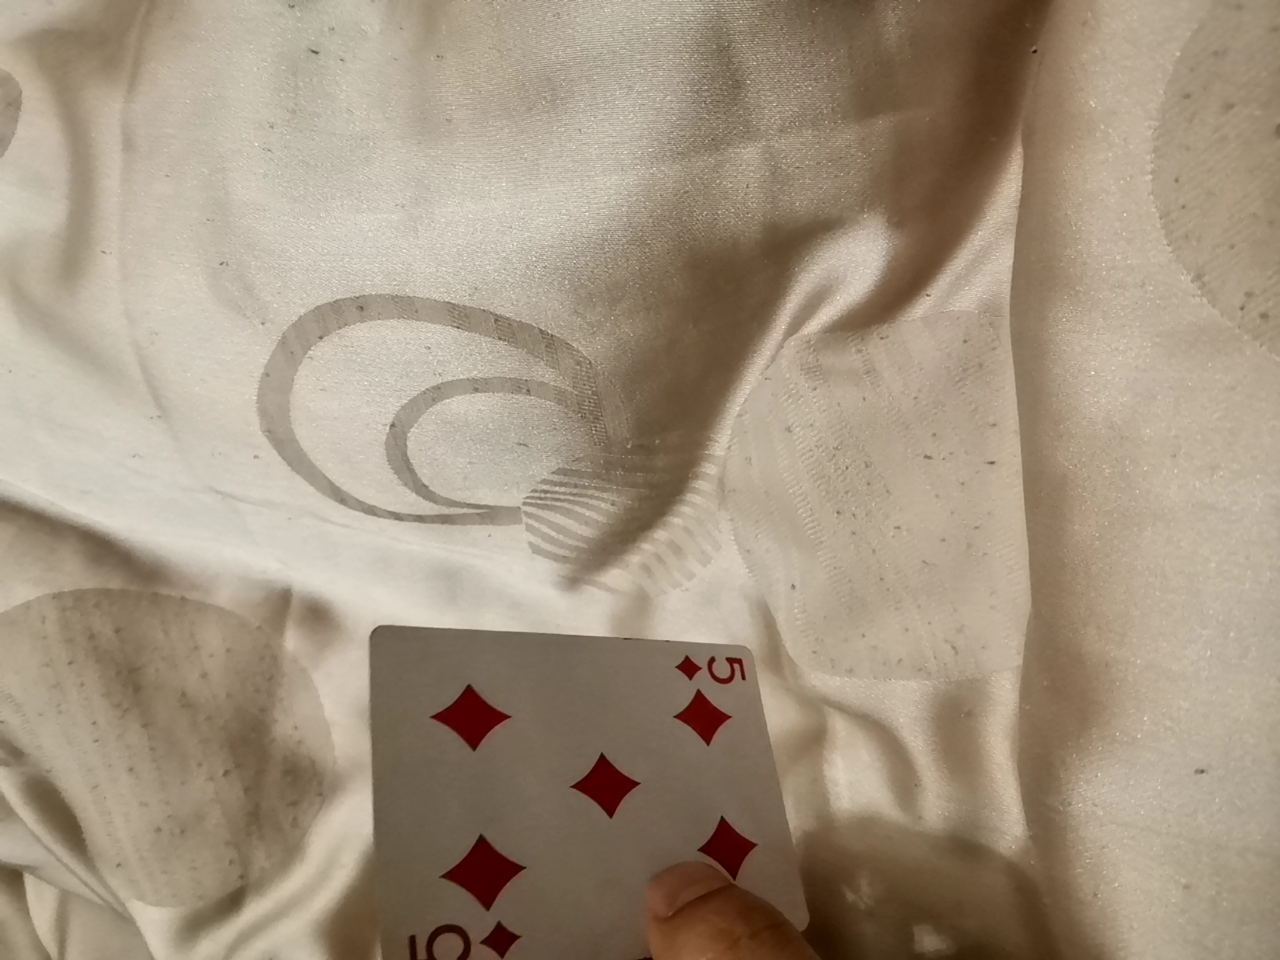fk 5: (358, 622, 775, 956)
